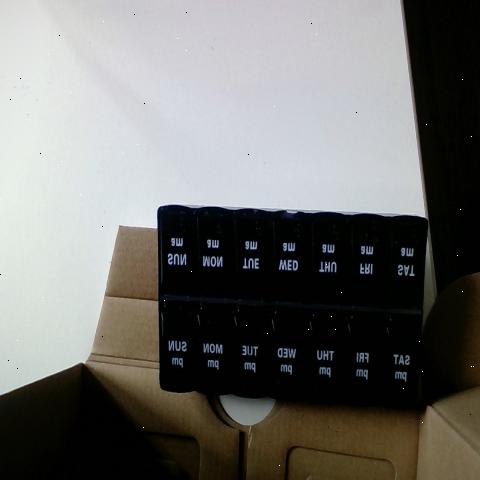FRI-am: (350, 216, 385, 304)
FRI-pm: (350, 313, 385, 398)
MON-am: (200, 210, 234, 302)
MON-pm: (196, 304, 238, 391)
SAT-am: (385, 219, 426, 308)
SAT-pm: (383, 309, 419, 400)
SUN-am: (163, 200, 197, 298)
SUN-pm: (164, 300, 200, 384)
THU-am: (237, 214, 271, 306), (315, 210, 346, 299)
THU-pm: (308, 306, 344, 402)
TUE-pm: (238, 310, 274, 393)
WED-am: (275, 215, 312, 303)
WED-pm: (272, 304, 307, 396)
